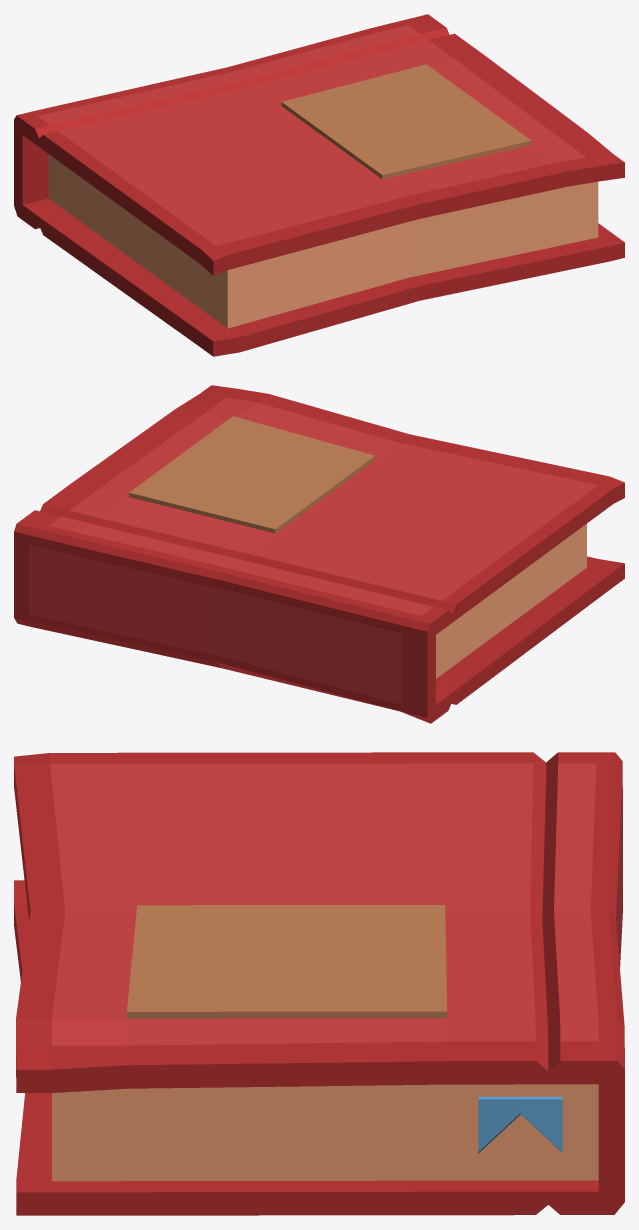
The model's file is Book.fbx.
3 views of the same model, one above another, from view 1: azimuth 30°, elevation 25°; view 2: azimuth 150°, elevation 25°; view 3: azimuth 270°, elevation 25° (orthographic). The views are drawn at different scales.
Parts seen in each view (by area): view 1: Plane.533; view 2: Plane.533; view 3: Plane.533.
Part boxes in pixels (box(x1,y1,x2,y2)): Plane.533: box(14, 14, 624, 356); Plane.533: box(14, 385, 624, 723); Plane.533: box(14, 752, 624, 1215).
Size of the model in its own units: 49.27 by 11.94 by 41.11.
1 material, 1 textured.
